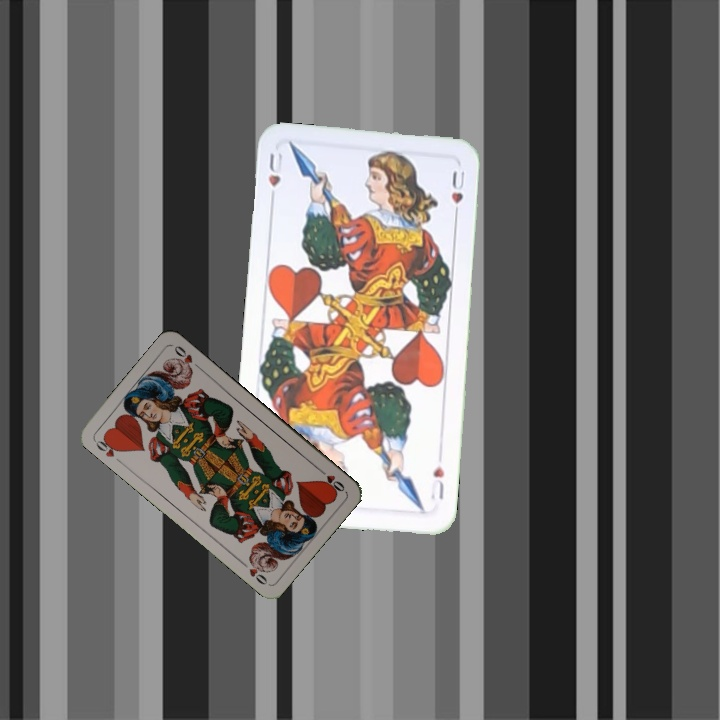HO: (313, 464, 347, 495), (90, 433, 124, 460)
HU: (264, 147, 285, 206), (426, 461, 447, 503)
